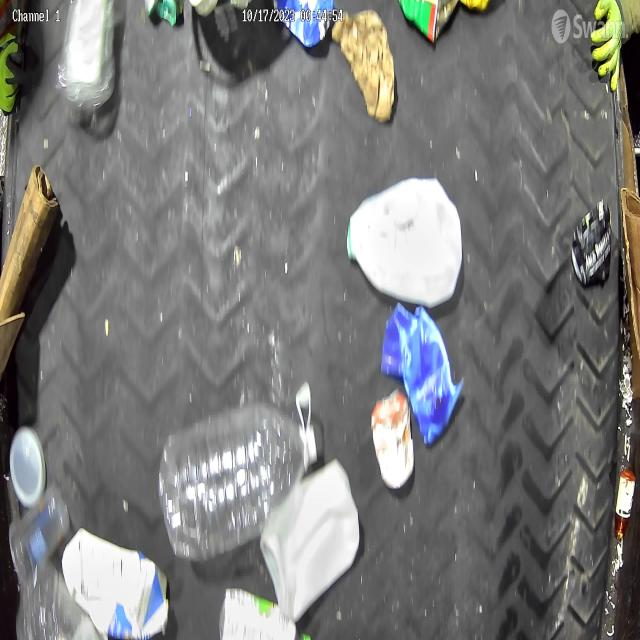milk-jug: (345, 178, 466, 314), (259, 458, 363, 614)
